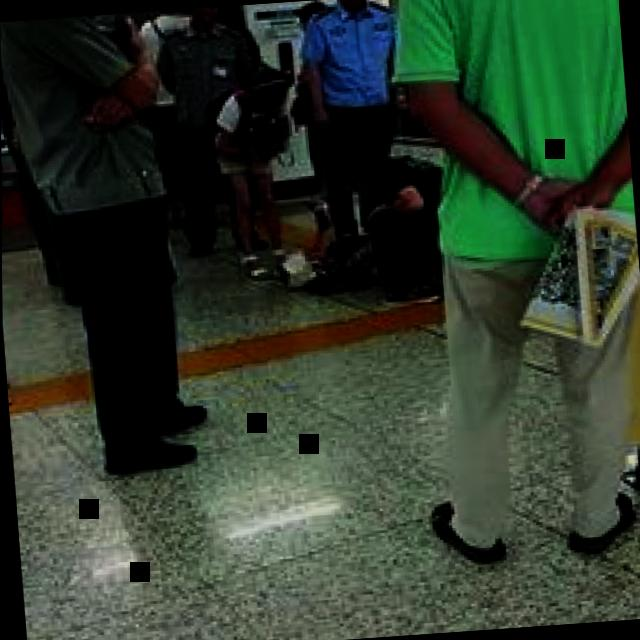Fall-Detected: (255, 150, 453, 304)
